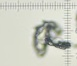microplastic: (32, 20, 71, 56)
